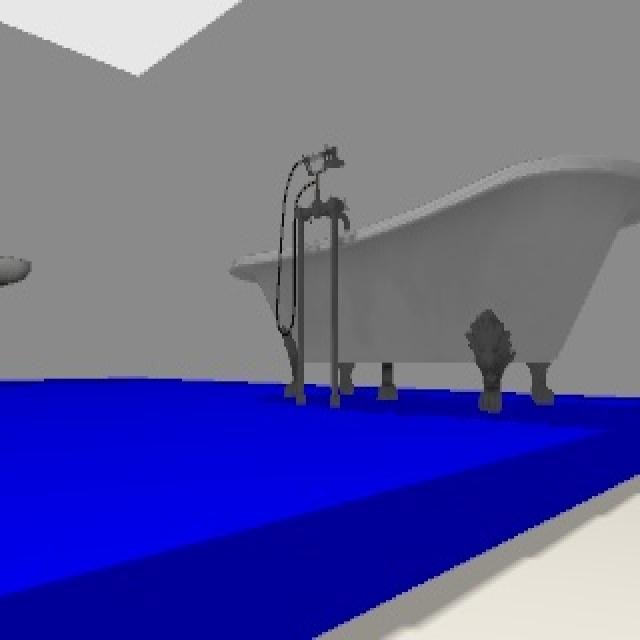bathtub: (232, 147, 640, 413)
